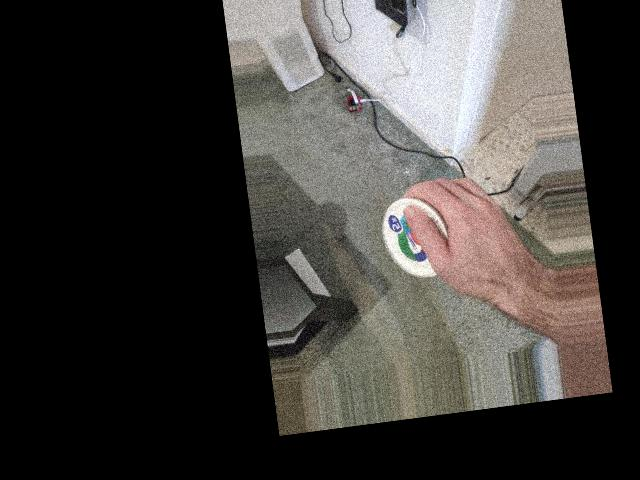cotage: (377, 190, 460, 282)
